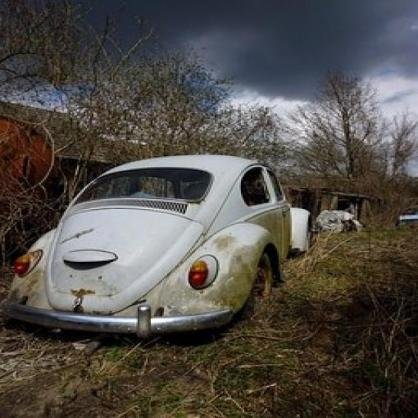car: (12, 156, 315, 338)
